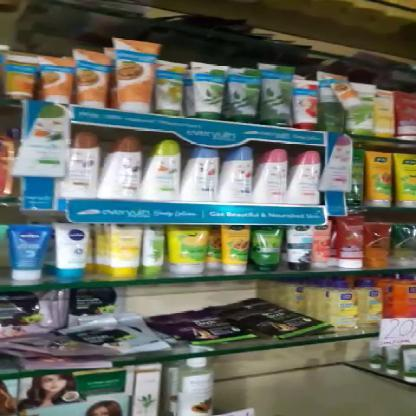Everyuth Naturals Body Lotion Nourishing Cocoa 200ml: (101, 134, 145, 198), (68, 130, 102, 201)
Everyuth Naturals Body Lotion Rejuvenating Flora 200ml: (255, 146, 290, 205), (288, 148, 322, 202)
Everyuth Naturals Body Lotion Soothing Citrus 200ml: (147, 138, 183, 202)
Everyuth Naturals Body Lotion Sun Care Berries SPF 15 200ml: (216, 144, 258, 206), (186, 148, 222, 204)
